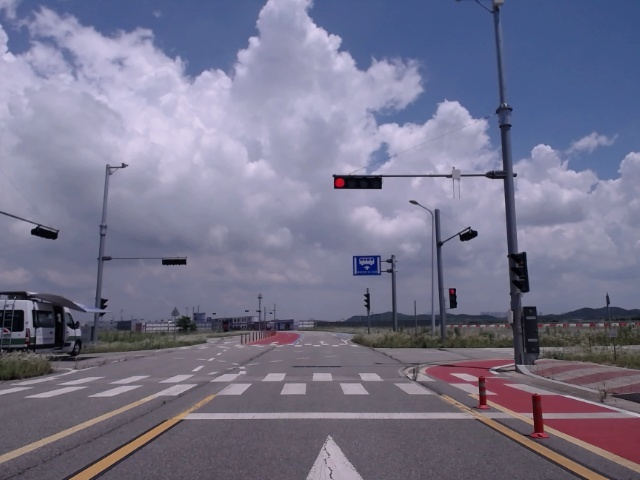red_4: (333, 176, 382, 190)
